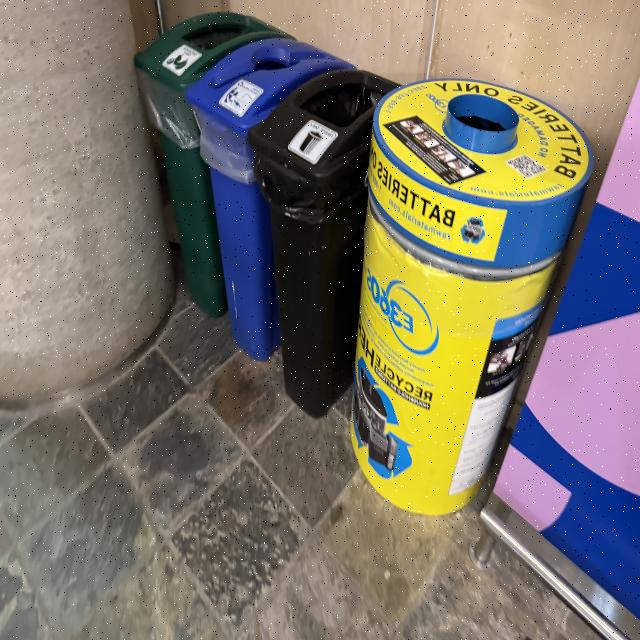Dustbin: (132, 11, 400, 419)
